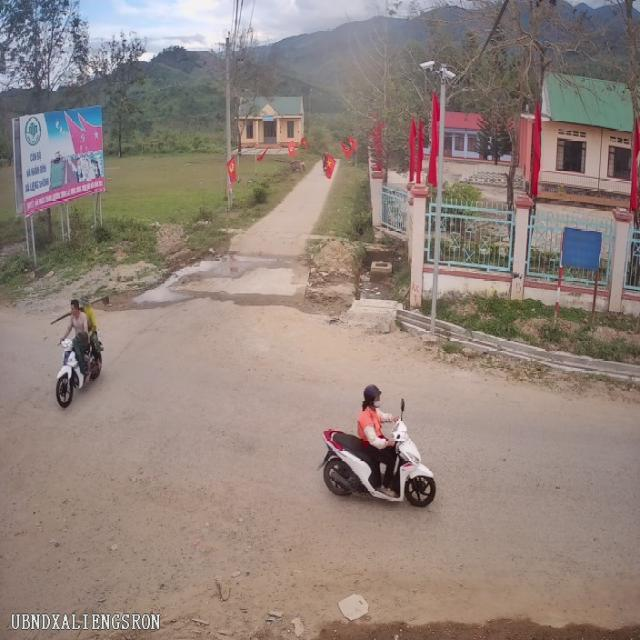with_helmet: (352, 376, 393, 428)
without_helmet: (61, 294, 88, 335)
